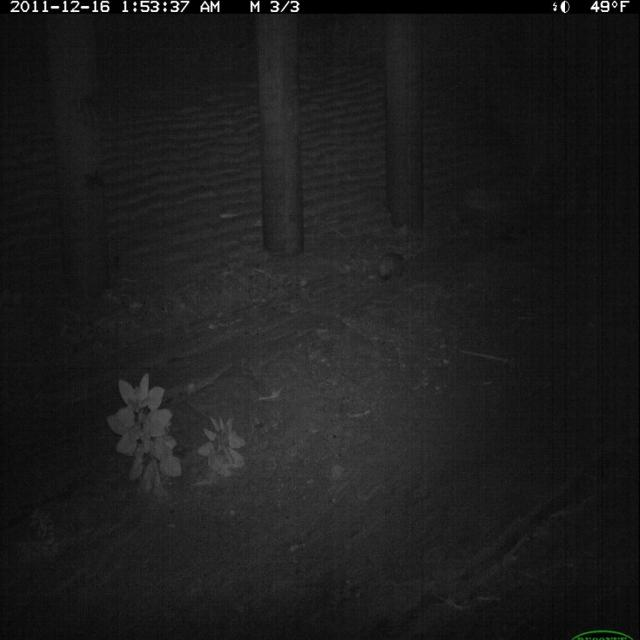opossum: (358, 247, 416, 285)
